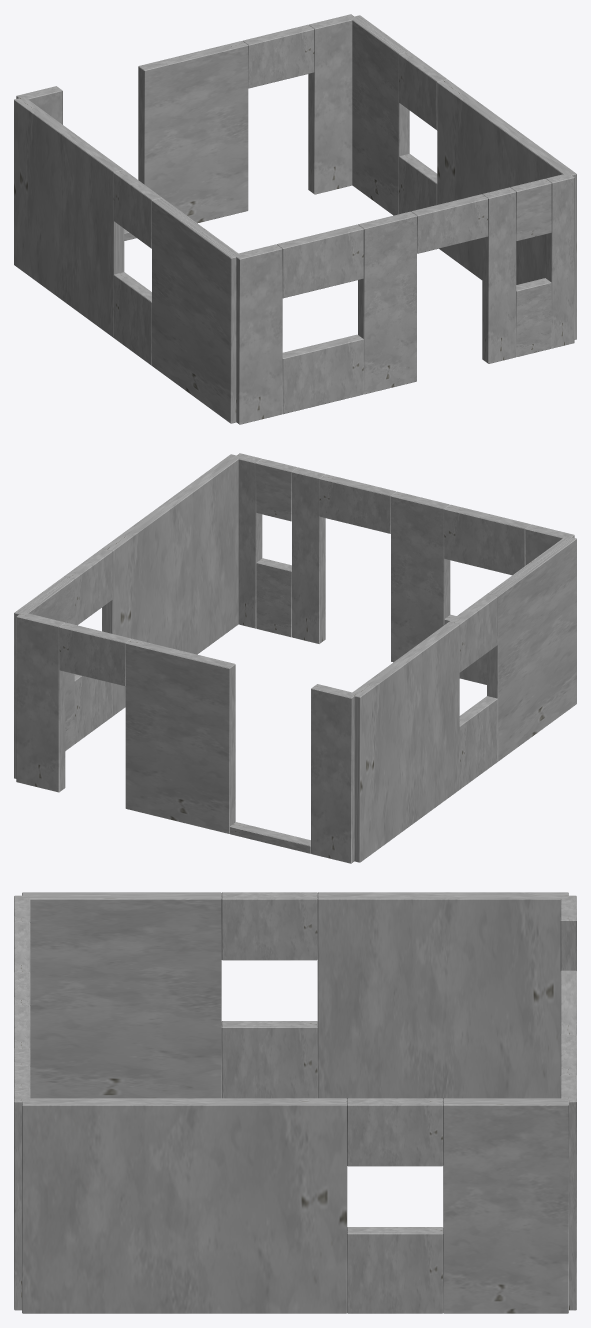
The model's file is BW_Bakery01_Plaster.fbx.
3 renders of one model, top to bottom at view 1: azimuth 30°, elevation 25°; view 2: azimuth 150°, elevation 25°; view 3: azimuth 270°, elevation 25°, orthographic. The views are drawn at different scales.
Visible parts, largest first — view 1: BW_Bakery01_Plaster; view 2: BW_Bakery01_Plaster; view 3: BW_Bakery01_Plaster.
Part boxes in pixels (<box>): BW_Bakery01_Plaster: <box>14,14,576,424</box>; BW_Bakery01_Plaster: <box>14,453,576,863</box>; BW_Bakery01_Plaster: <box>14,892,576,1313</box>.
Size of the model in its own units: 6.82 by 3.12 by 7.62.
